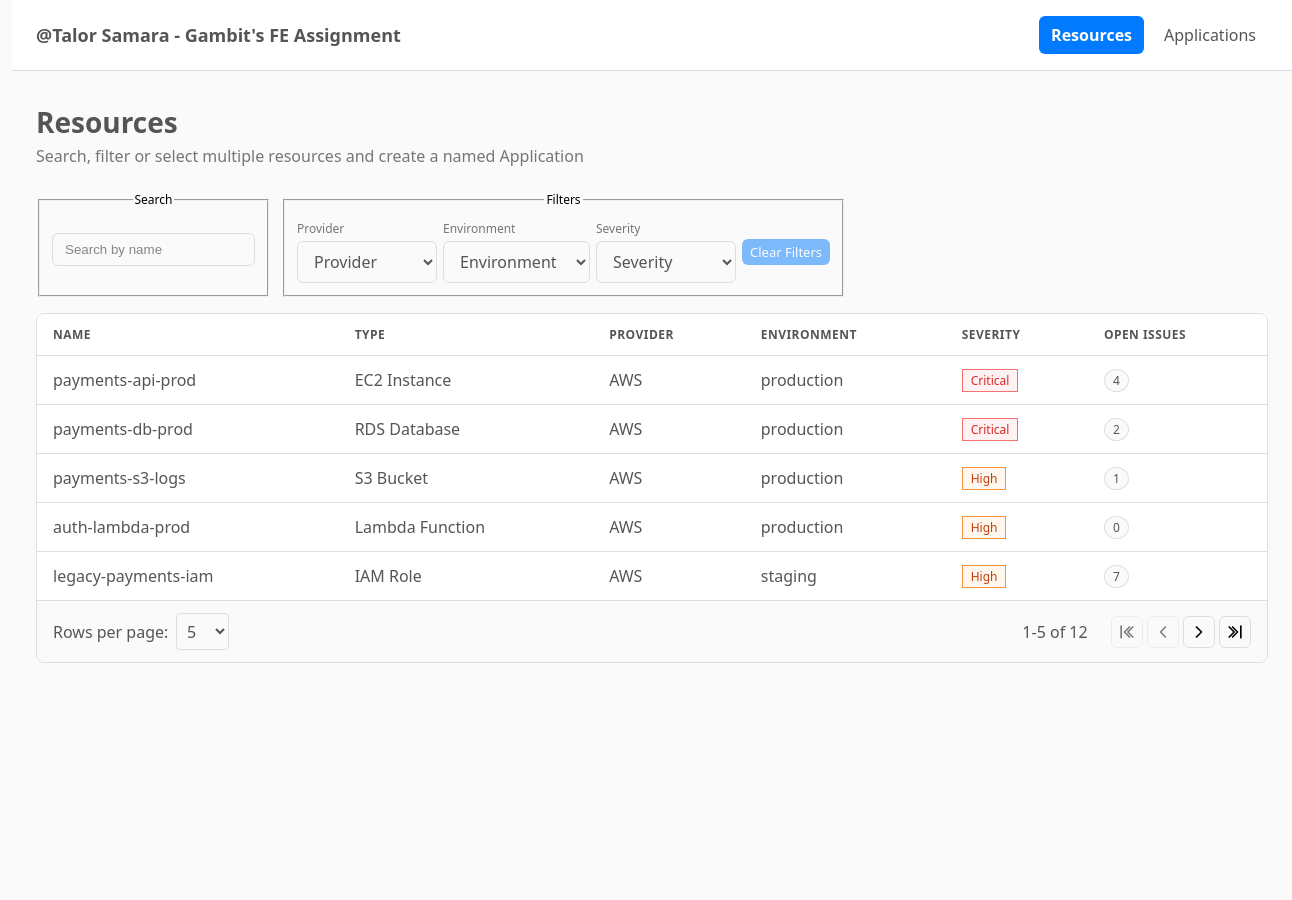
Test: ResourcesPage › should filter resources after the search debounce and update the URL
Type "payments" into the search field labelled "Search". click: coordinates (154, 249)
box: [52,233,255,266]
(page scrolled)
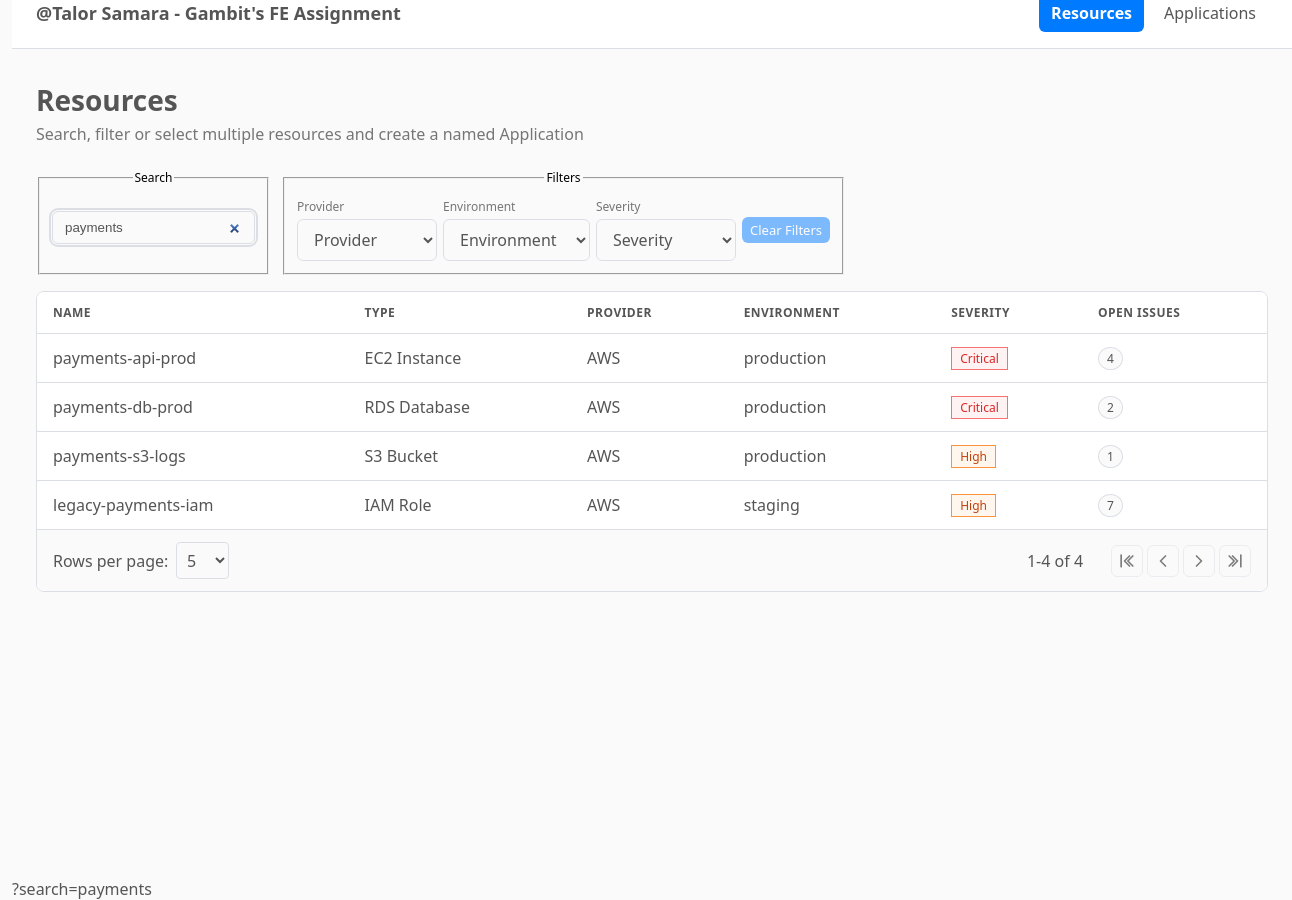
Result: the text "auth-lambda-prod" is gone
Result: the text "1-4 of 4" is shown at [1027,550,1083,572]
Result: the text with test id "location" reads "?search=payments" at [12,878,152,899]
